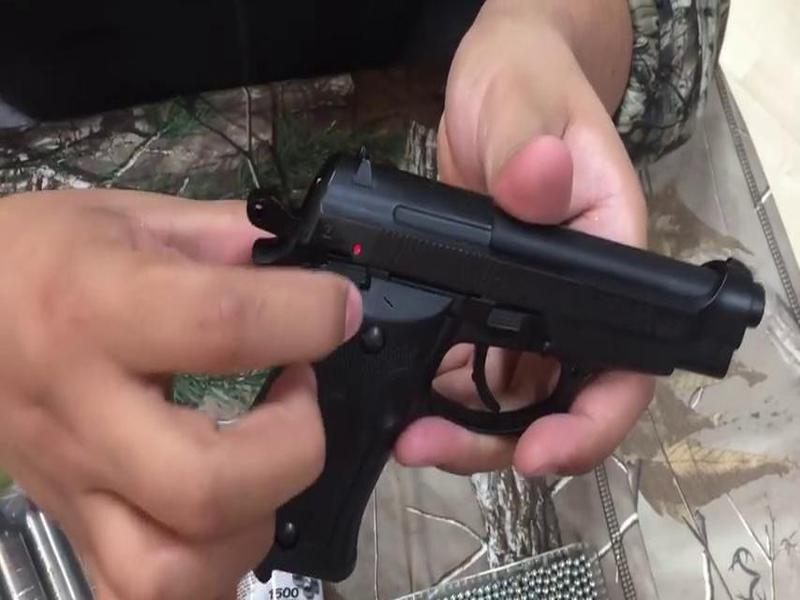Pistola: (202, 136, 767, 595)
